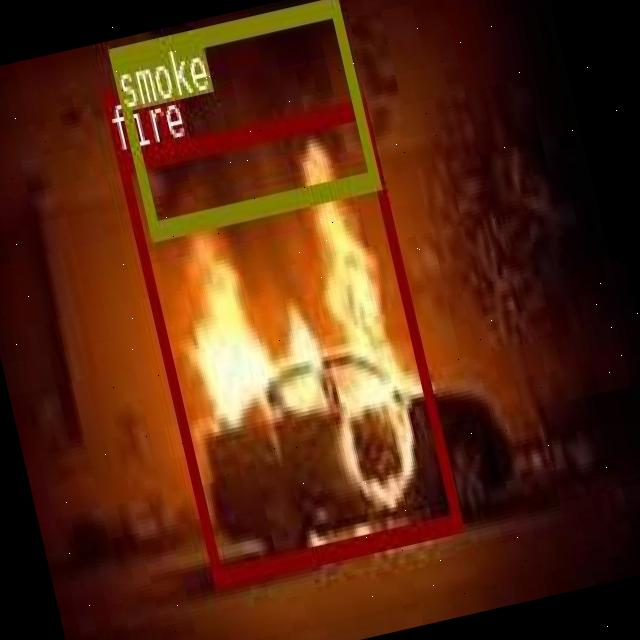fire: (114, 94, 462, 584)
smoke: (106, 0, 379, 238)
